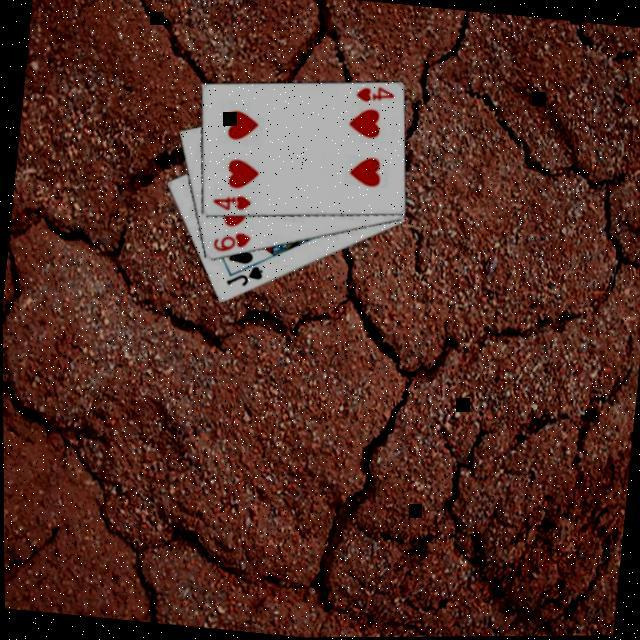4H: (350, 81, 396, 107), (208, 190, 252, 214)
6H: (208, 227, 252, 256)
JS: (222, 260, 264, 290)
